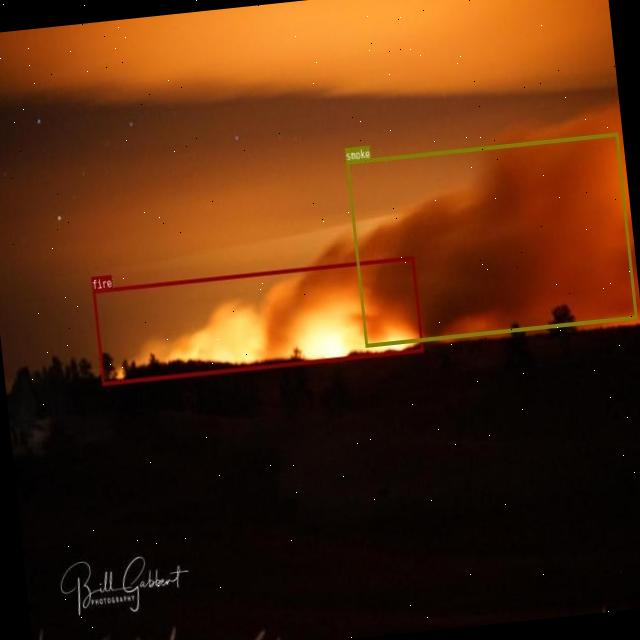fire: (91, 255, 422, 384)
smoke: (346, 130, 636, 347)
